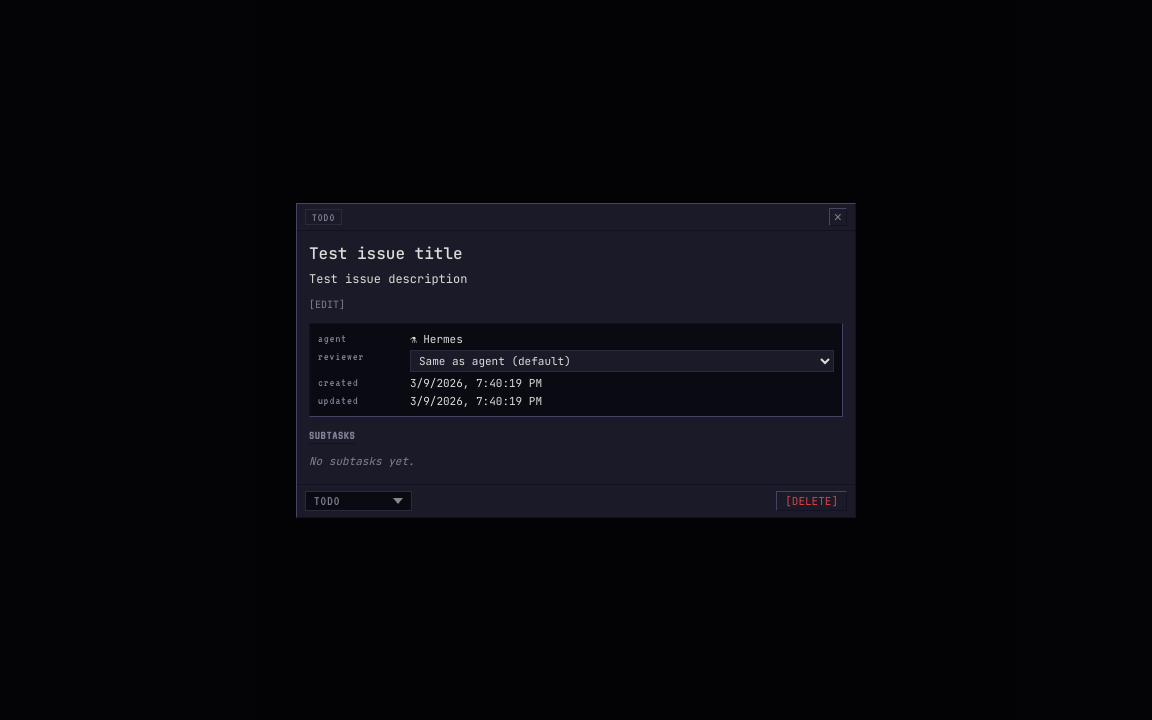
Test: IssueDetail › displays error when status change fails
Select "DONE" in the dropdown named "Change status" at (358,500), box [305, 490, 412, 510]
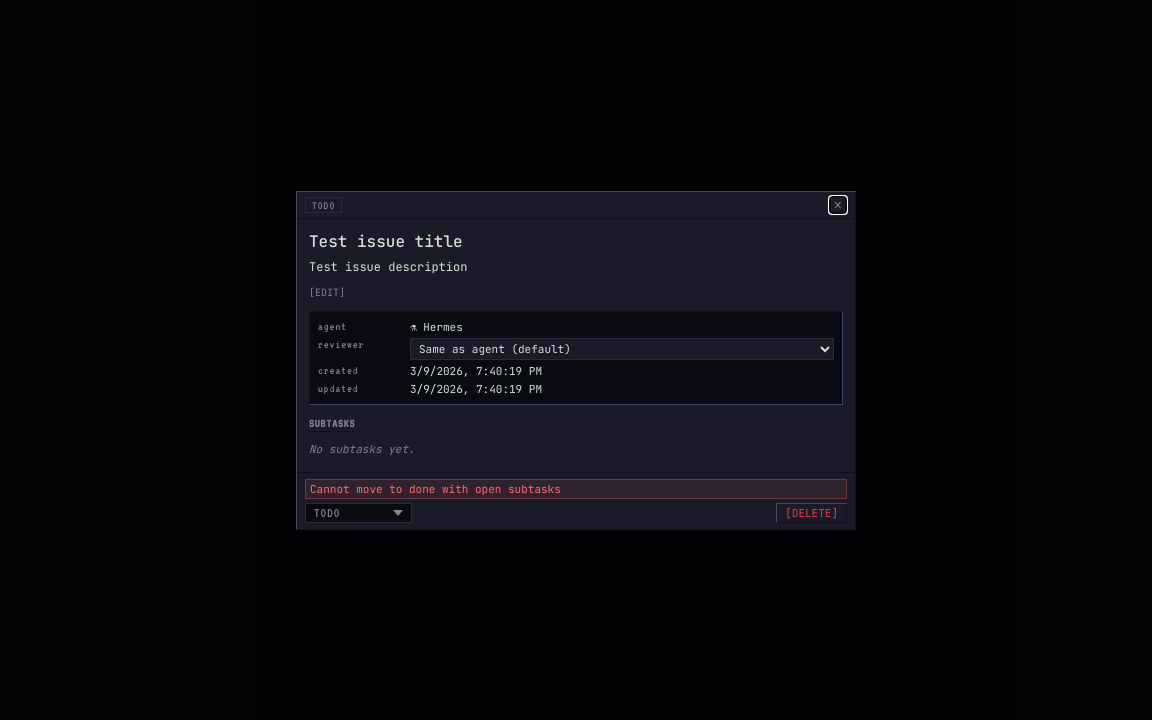
Expected: the text "Cannot move to done with open subtasks" is shown, [305, 478, 847, 498]
